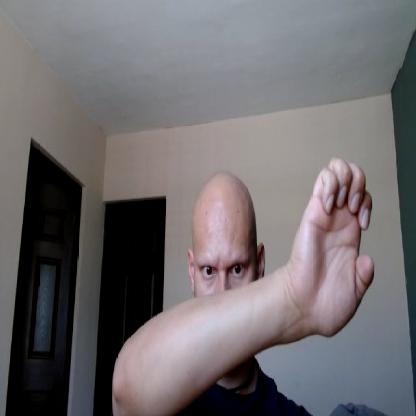E: (297, 155, 375, 342)
